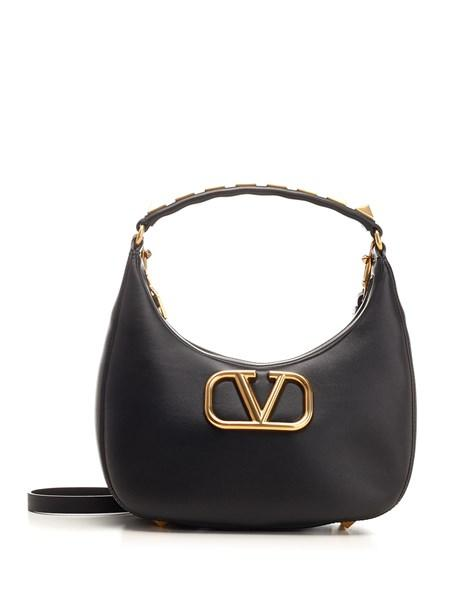VALENTINO: (205, 370, 313, 431)
